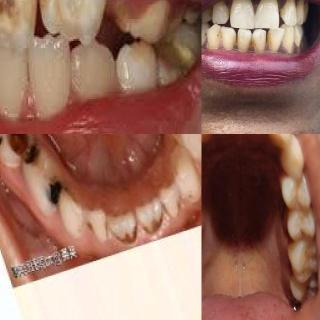cavities: (155, 37, 198, 85), (0, 0, 40, 46), (21, 136, 46, 170), (0, 134, 26, 157), (48, 184, 62, 203)
maligned: (23, 30, 73, 120), (41, 0, 111, 53), (0, 0, 38, 54), (268, 25, 288, 53), (220, 24, 237, 48), (237, 24, 253, 48), (205, 23, 222, 45), (253, 27, 267, 49)
stains: (159, 197, 187, 221), (116, 226, 138, 244), (144, 217, 162, 236), (266, 31, 276, 55), (250, 35, 262, 53), (238, 33, 250, 51), (227, 32, 239, 50), (214, 28, 222, 46), (202, 28, 210, 44), (278, 5, 286, 18), (86, 224, 94, 236)
